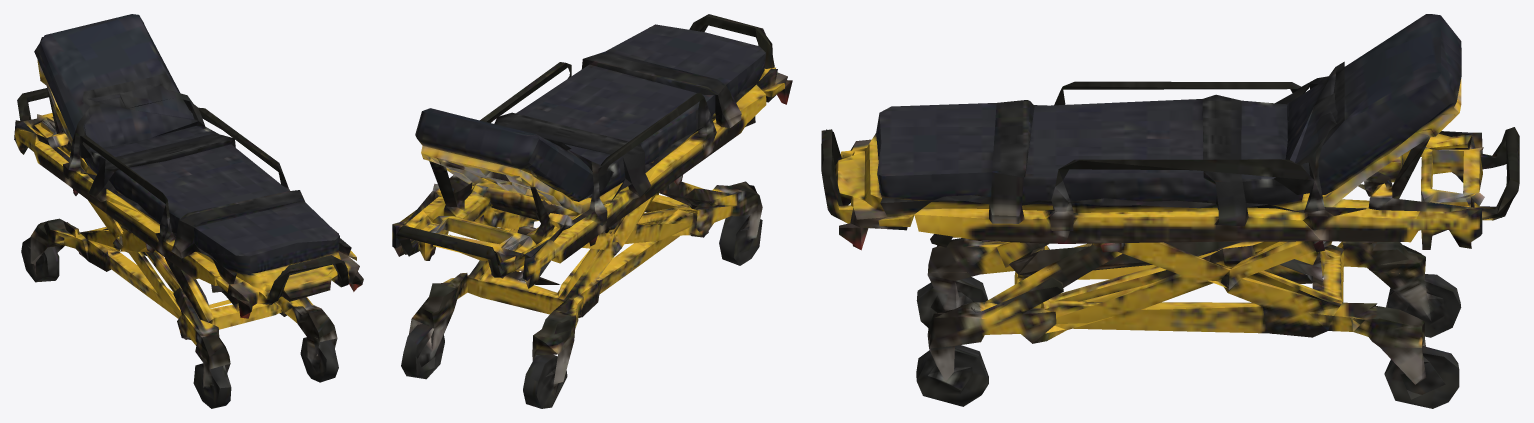
File: p7-wheeled-stretcher.glb
The picture shows the model from 3 angles, left to right: view 1: azimuth 30°, elevation 25°; view 2: azimuth 150°, elevation 25°; view 3: azimuth 270°, elevation 25°; orthographic projection. The views are drawn at different scales.
Visible parts, largest first — view 1: p7-wheeled-stretcher; view 2: p7-wheeled-stretcher; view 3: p7-wheeled-stretcher.
Boxes of the visible parts, box(x1,y1,x2,y2) form: p7-wheeled-stretcher: box(14, 14, 363, 408); p7-wheeled-stretcher: box(392, 14, 792, 408); p7-wheeled-stretcher: box(821, 14, 1519, 408).
Size of the model in its own units: 0.6 by 0.95 by 1.84.
Materials: 1 (1 with a texture image).
